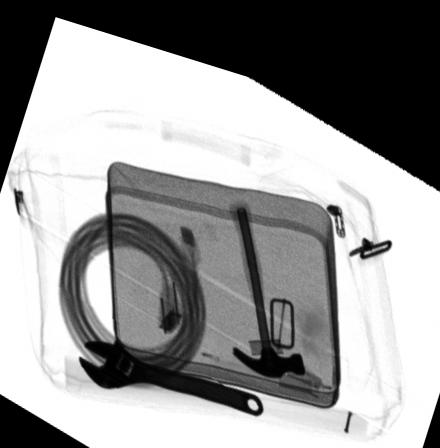Hammer: (229, 185, 306, 362)
Wrench: (77, 332, 265, 402)
